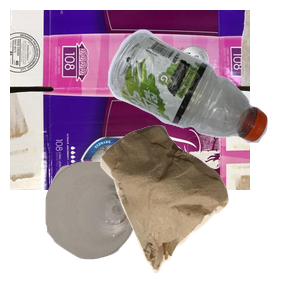cardboard: (10, 10, 250, 190)
glass: (43, 159, 187, 300)
plastic: (105, 27, 300, 162)
trash: (98, 123, 300, 300)
